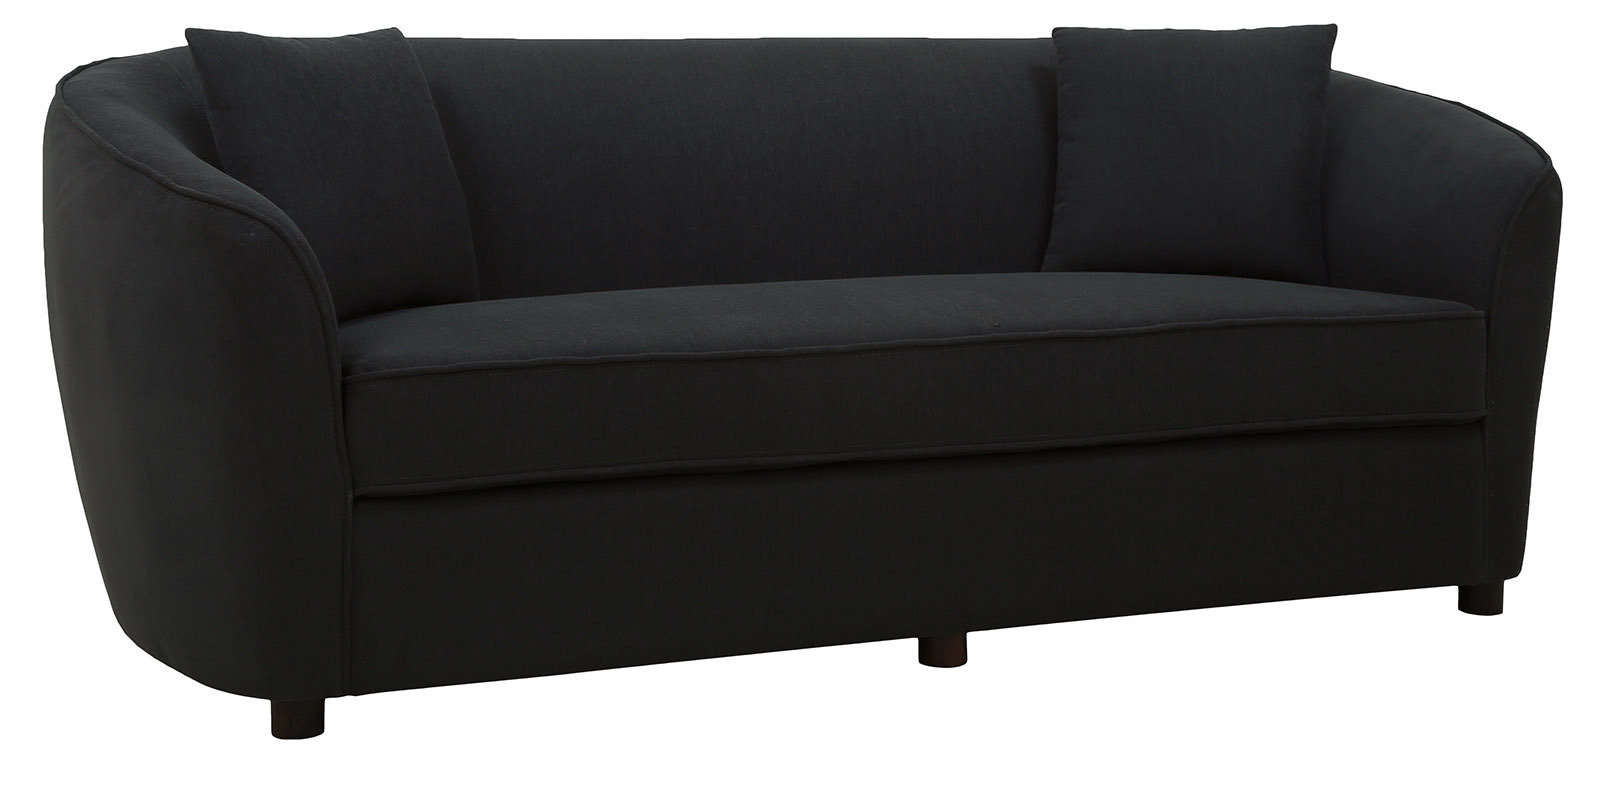Mamore Three Seater Sofa in Charcoal Grey Color by CasaCraft: (43, 21, 1566, 741)
